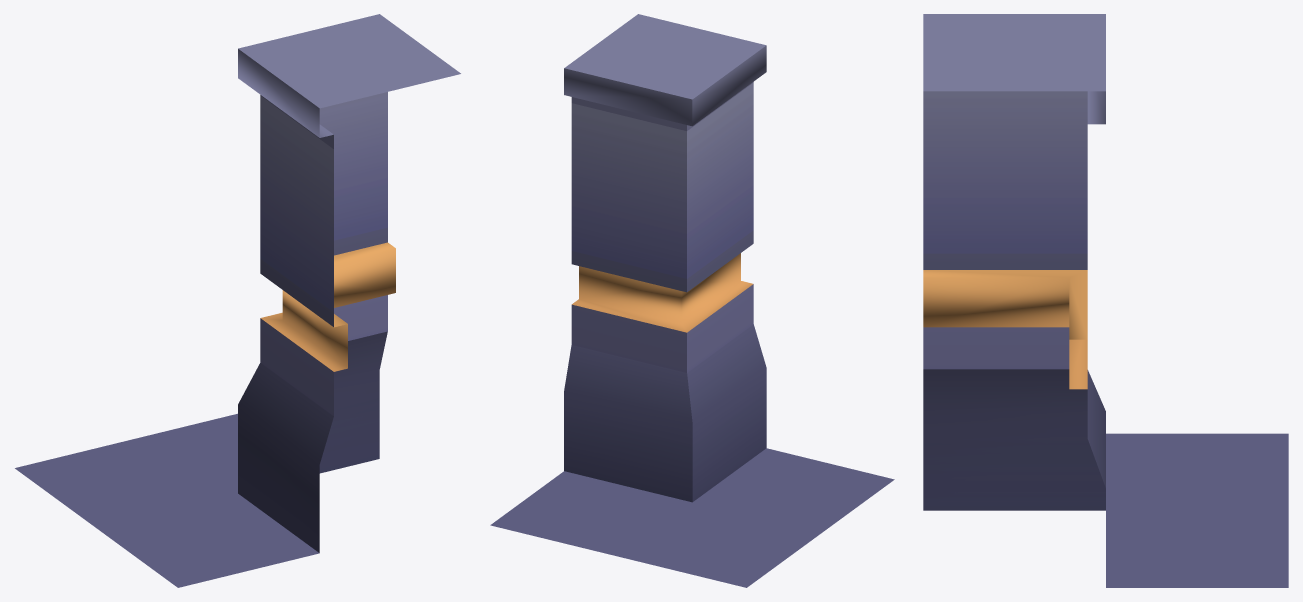
Rendered from kenney-factory-structure-corner-outer.glb.
3 views of the same model, side by side, from view 1: azimuth 30°, elevation 25°; view 2: azimuth 150°, elevation 25°; view 3: azimuth 270°, elevation 25° (orthographic). The views are drawn at different scales.
Visible parts, largest first — view 1: structure-corner-outer; view 2: structure-corner-outer; view 3: structure-corner-outer.
Part boxes in pixels (x1,y1,x2,y2): structure-corner-outer: [15, 14, 460, 587]; structure-corner-outer: [490, 14, 894, 587]; structure-corner-outer: [923, 14, 1288, 587].
Bounding box in the file's own units: 2 × 3 × 2.
Materials: 1 (1 with a texture image).
